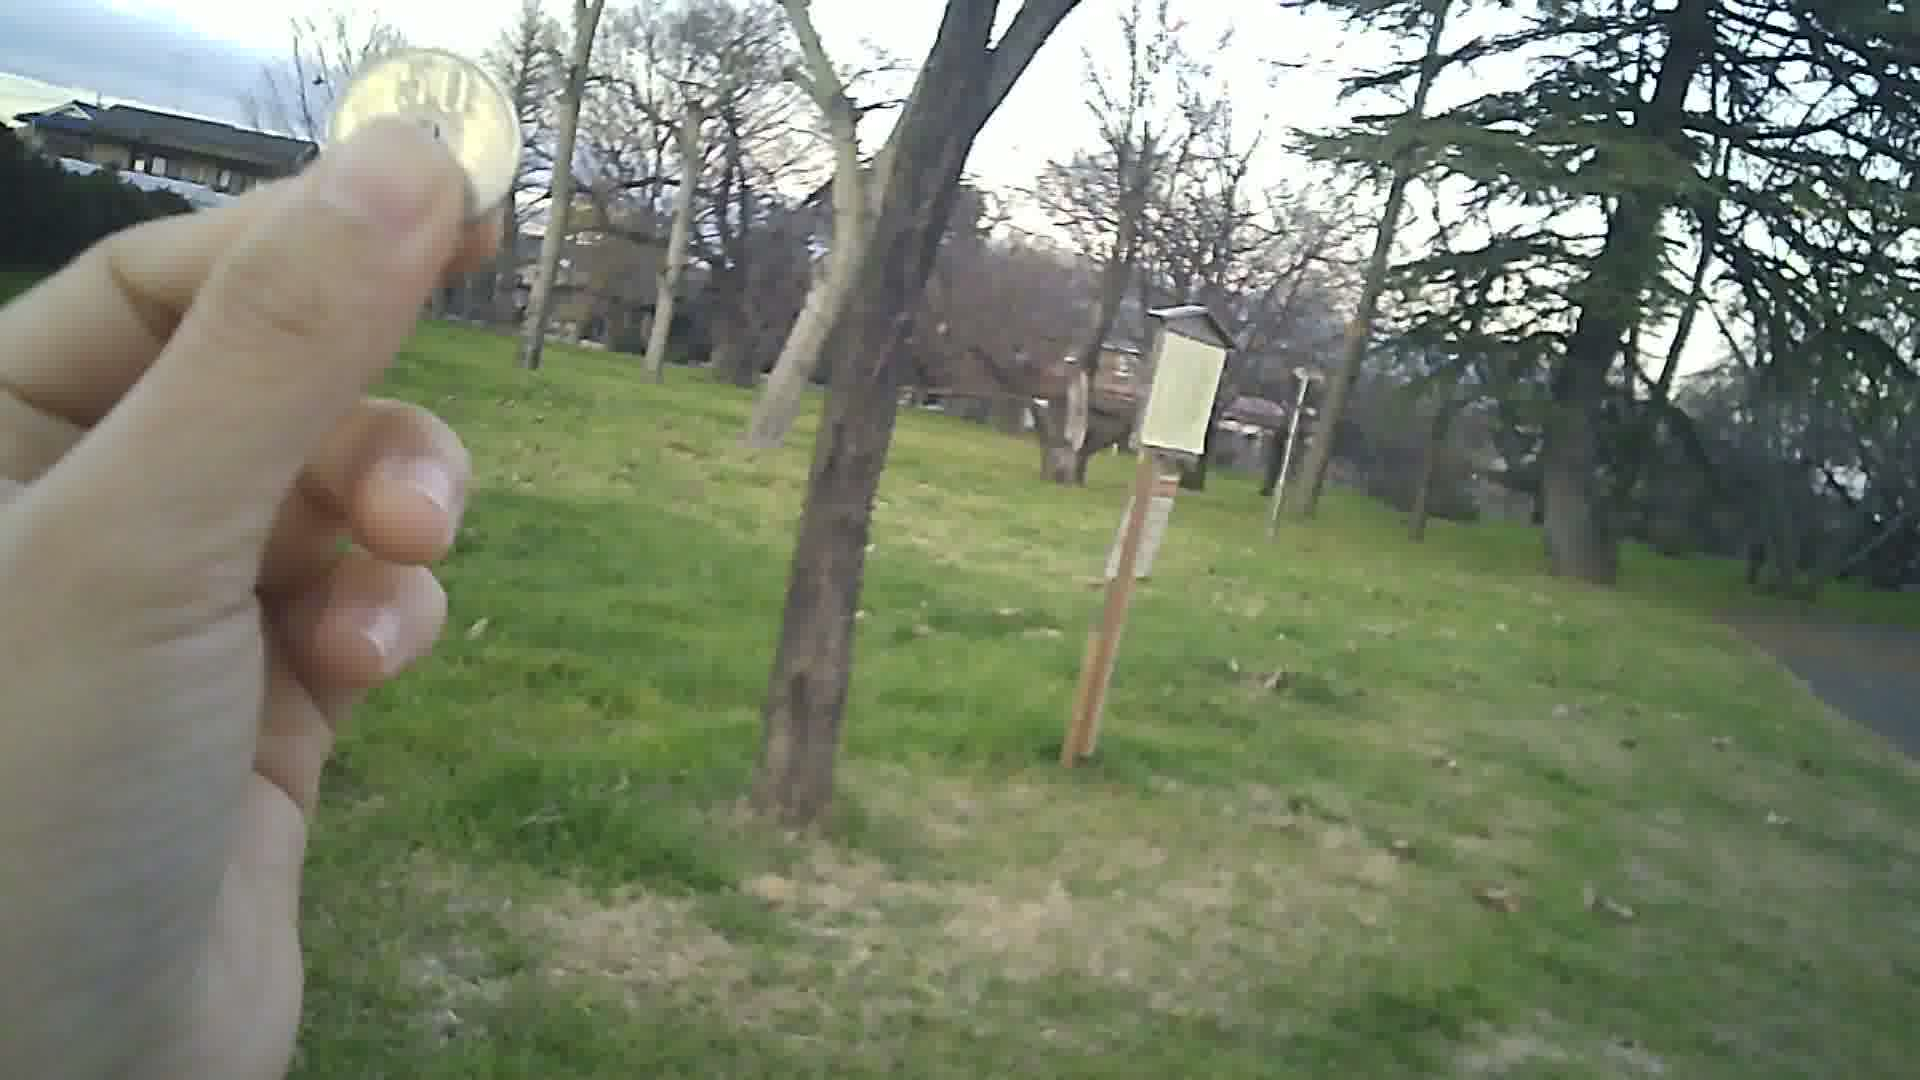50 Yen: (316, 38, 522, 231)
